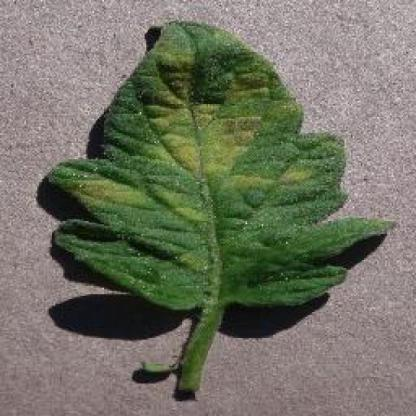Tomato_Leaf_Mold: (49, 21, 395, 305)
